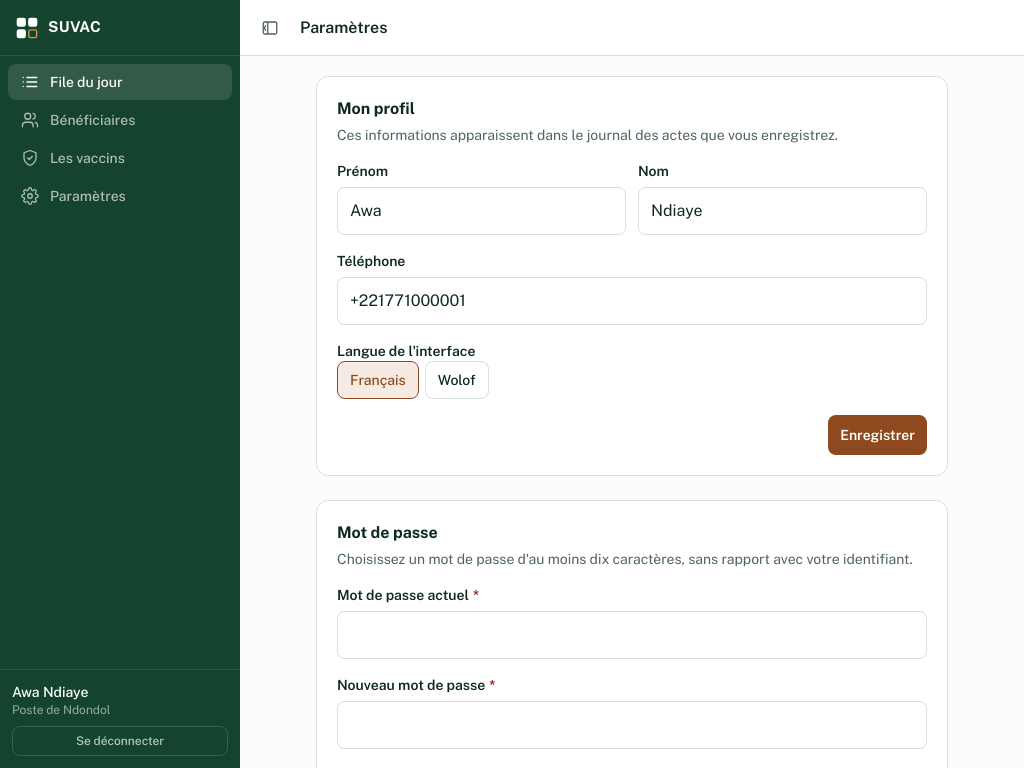
it: Parametres › enregistre les modifications du profil
Replace the text in the field labelled "Nom" with "Sow" at (782, 211), box [638,187,927,235]
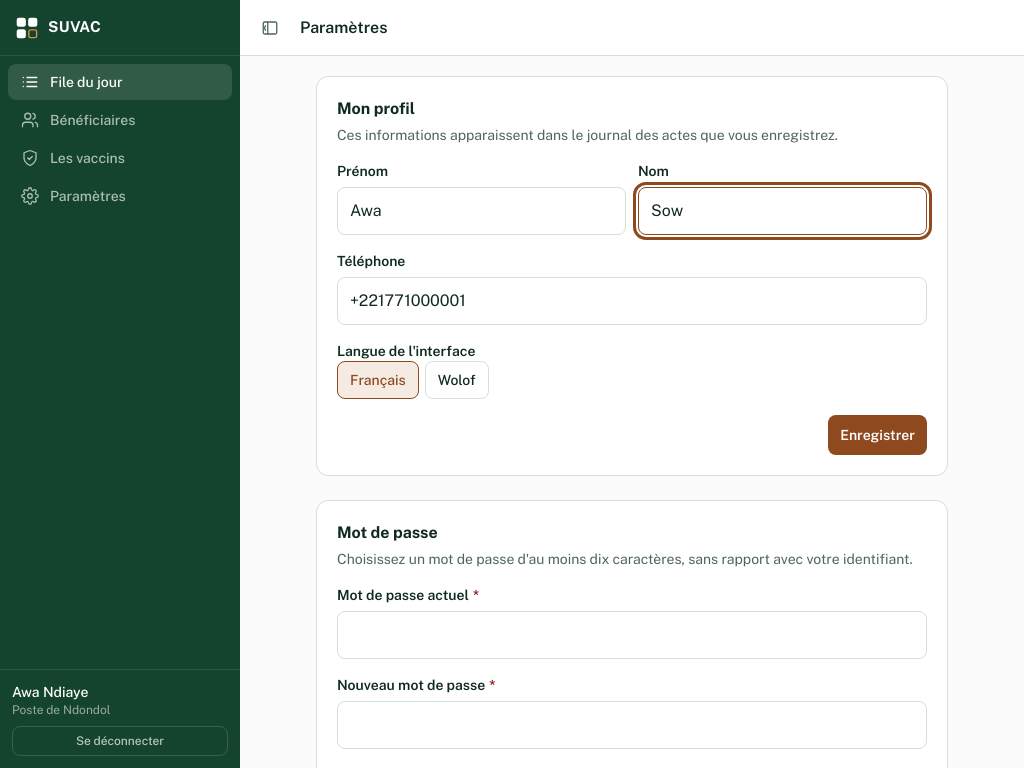
Click the button with aria-label "enregistrer le profil" at (878, 435), box [828,415,927,455]
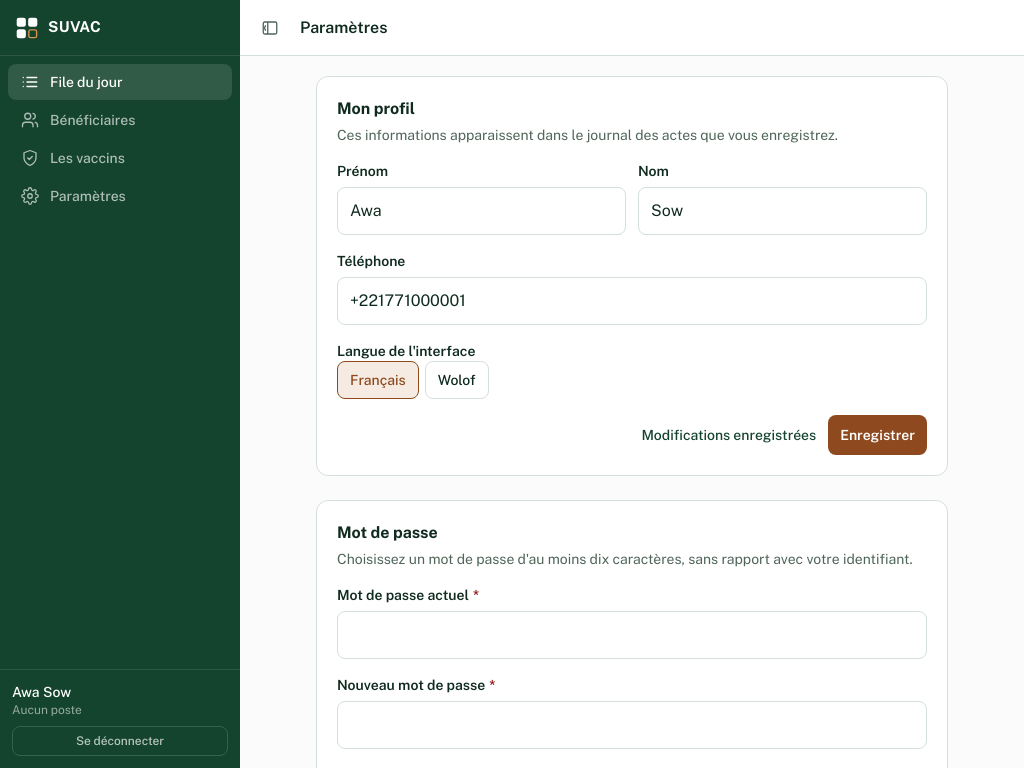
Expected: the text "Modifications enregistrées" is shown, [642,425,816,445]
